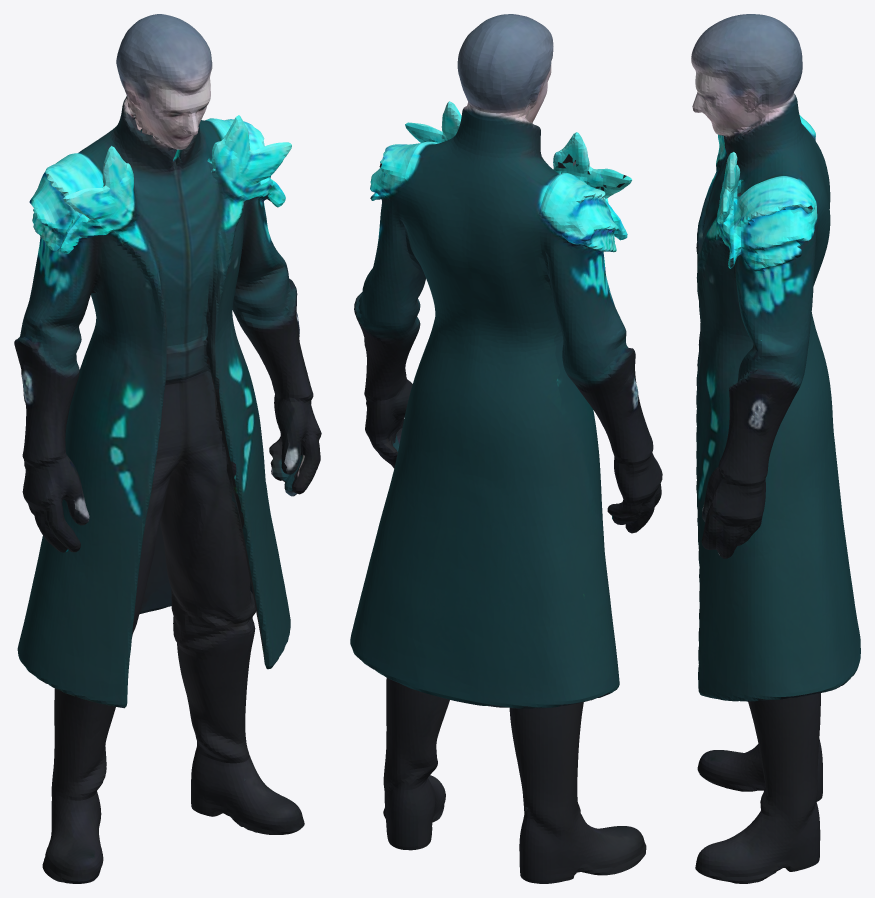
The model's file is corvin.glb.
The picture shows the model from 3 angles, left to right: view 1: azimuth 30°, elevation 25°; view 2: azimuth 150°, elevation 25°; view 3: azimuth 270°, elevation 25°; orthographic projection.
Visible parts, largest first — view 1: tmpa2a7r4xs.ply; view 2: tmpa2a7r4xs.ply; view 3: tmpa2a7r4xs.ply.
Part boxes in pixels (<box>): tmpa2a7r4xs.ply: <box>14,14,321,883</box>; tmpa2a7r4xs.ply: <box>350,14,662,883</box>; tmpa2a7r4xs.ply: <box>691,14,860,883</box>.
Bounding box in the file's own units: 0.7195 × 1.99 × 0.3782.
1 material, 1 textured.
